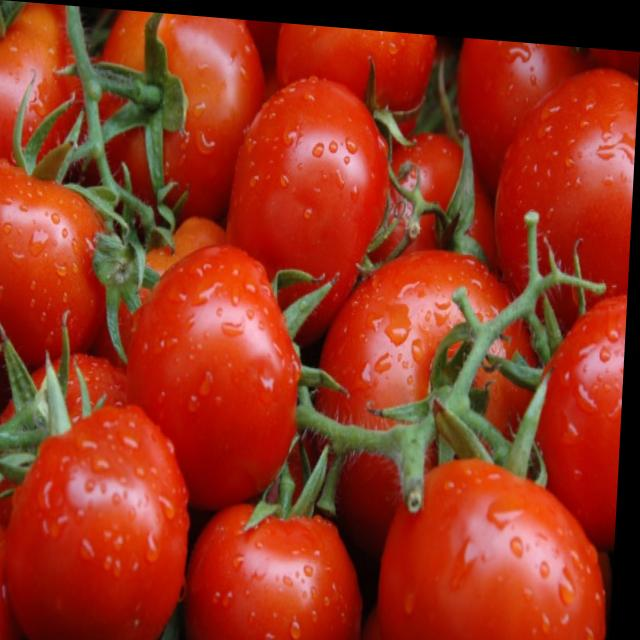kirmizi: (0, 4, 640, 640)
